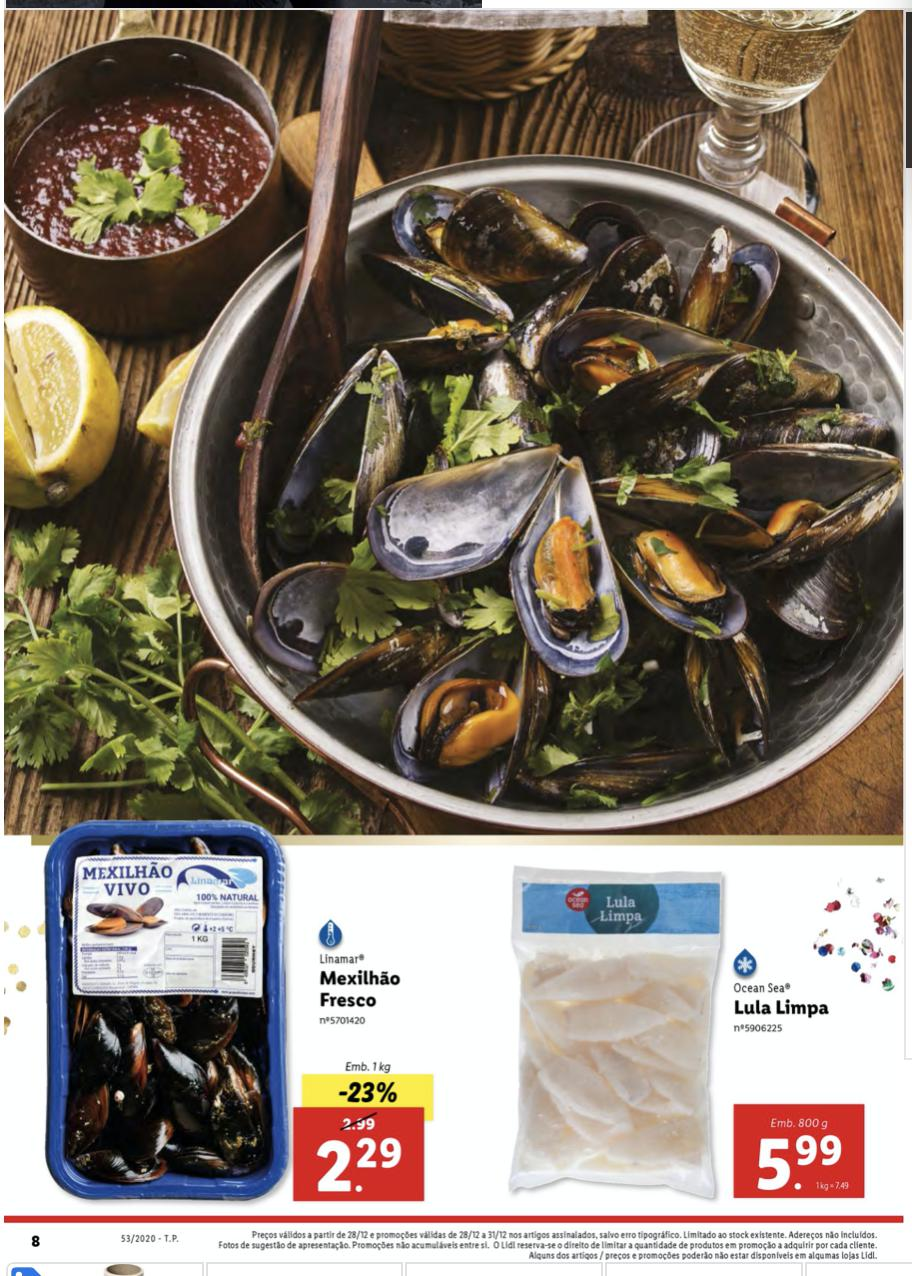name: (317, 969, 417, 1012), (724, 994, 841, 1021)
price: (306, 1134, 411, 1197), (751, 1132, 854, 1196)
product: (27, 812, 440, 1201), (497, 848, 897, 1199)
promotion: (335, 1078, 400, 1105)
